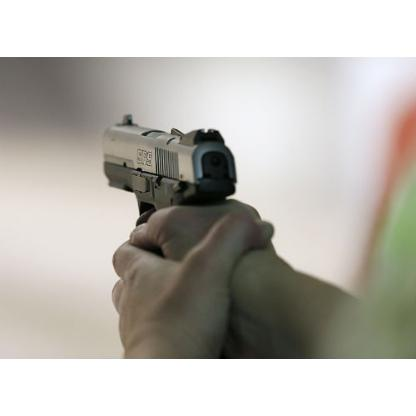gun: (94, 112, 238, 336)
